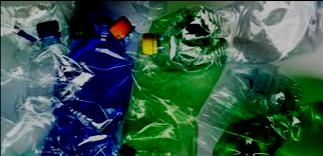Plastic: (1, 17, 95, 155), (136, 1, 322, 70)
